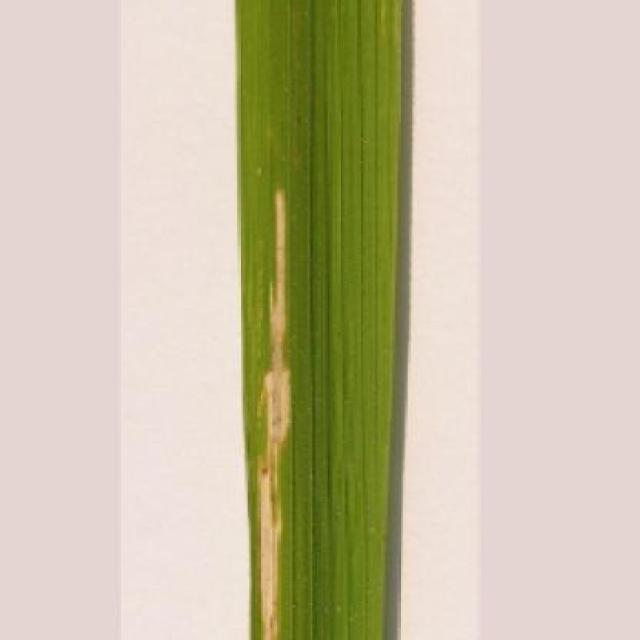Brown_Spot: (228, 0, 407, 640)
